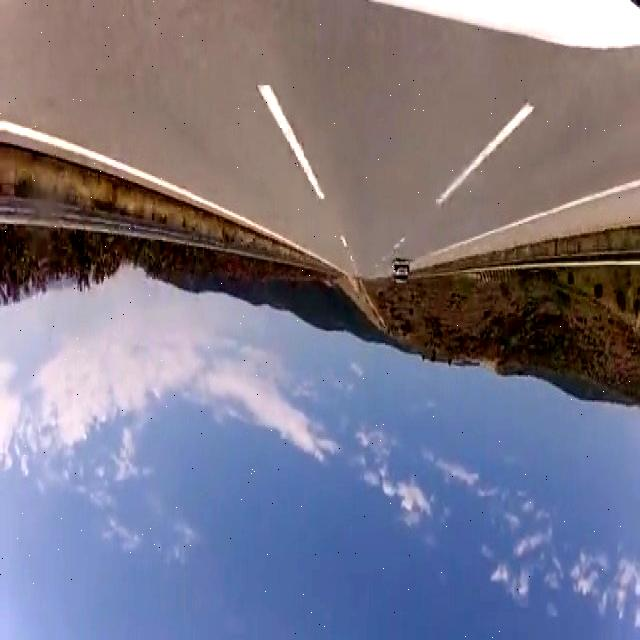lane: (0, 119, 335, 266), (430, 179, 640, 254), (436, 103, 533, 204), (257, 87, 323, 199)
road: (0, 4, 639, 277)
